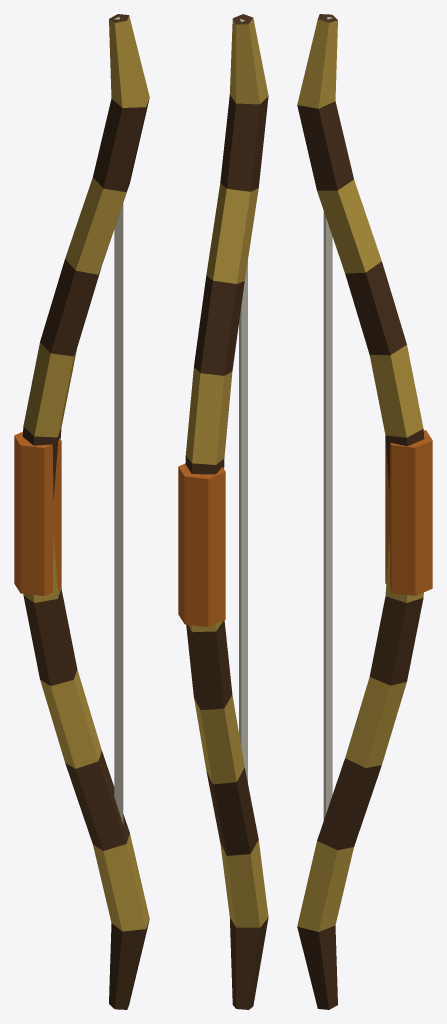
The model's file is weapon_bow.glb.
3 renders of one model, left to right at view 1: azimuth 90°, elevation 25°; view 2: azimuth 150°, elevation 25°; view 3: azimuth 270°, elevation 25°, orthographic.
Visible parts, largest first — view 1: cat_weapon_bow; view 2: cat_weapon_bow; view 3: cat_weapon_bow.
Part boxes in pixels (<box>): cat_weapon_bow: <box>14,14,149,1009</box>; cat_weapon_bow: <box>178,14,268,1009</box>; cat_weapon_bow: <box>297,14,432,1009</box>.
Bounding box in the file's own units: 0.0417 × 0.9622 × 0.1195.
